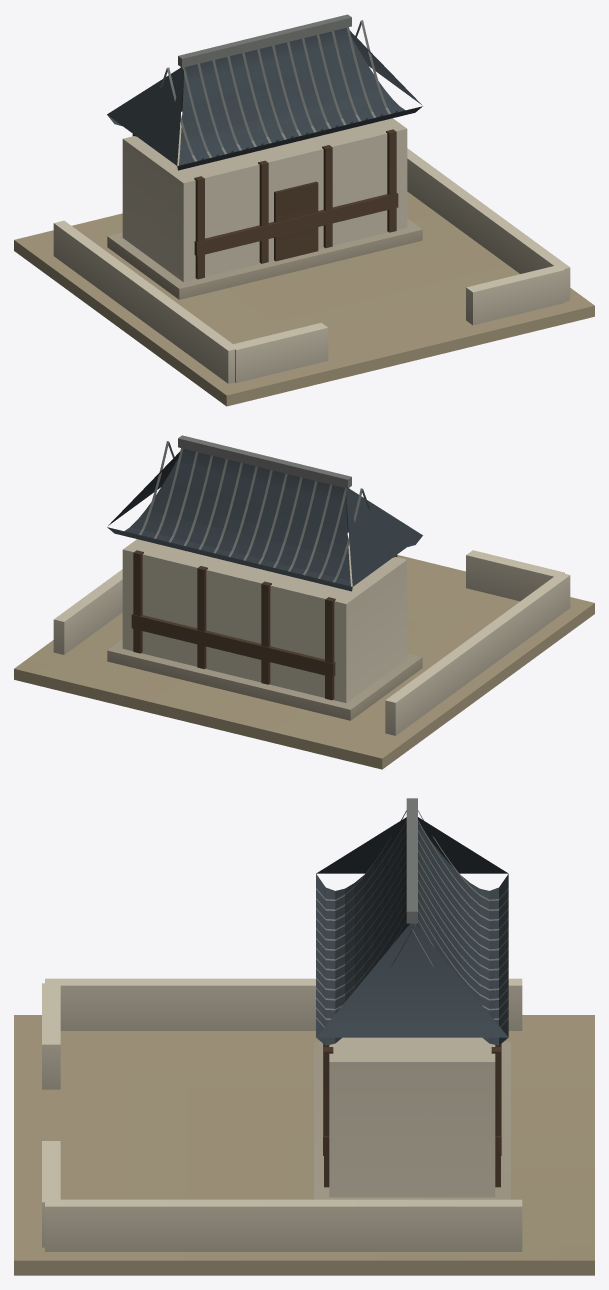
File: hostel-1.glb
3 views of the same model, one above another, from view 1: azimuth 30°, elevation 25°; view 2: azimuth 150°, elevation 25°; view 3: azimuth 270°, elevation 25° (orthographic). The views are drawn at different scales.
Parts seen in each view (by area): view 1: hostel 1 1, hostel 1 4, hostel 1 2, hostel 1 3, hostel 1 5, hostel 1 0; view 2: hostel 1 1, hostel 1 4, hostel 1 2, hostel 1 3, hostel 1 5, hostel 1 0; view 3: hostel 1 4, hostel 1 1, hostel 1 2, hostel 1 5, hostel 1 0, hostel 1 3.
Part boxes in pixels (box(x1,y1,x2,y2)): hostel 1 1: box(53, 118, 570, 383); hostel 1 4: box(14, 191, 594, 406); hostel 1 2: box(107, 28, 422, 170); hostel 1 3: box(132, 129, 398, 279); hostel 1 5: box(159, 14, 397, 161); hostel 1 0: box(107, 218, 422, 299); hostel 1 1: box(53, 539, 570, 735); hostel 1 4: box(14, 543, 594, 769); hostel 1 2: box(107, 448, 422, 591); hostel 1 3: box(131, 550, 397, 700); hostel 1 5: box(132, 435, 370, 582); hostel 1 0: box(107, 639, 422, 720); hostel 1 4: box(14, 1015, 594, 1275); hostel 1 1: box(42, 978, 522, 1251); hostel 1 2: box(316, 817, 508, 1045); hostel 1 5: box(316, 798, 508, 1027); hostel 1 0: box(314, 1041, 510, 1199); hostel 1 3: box(323, 1044, 501, 1187).
Bounding box in the file's own units: 2.8 × 1.59 × 2.8.
